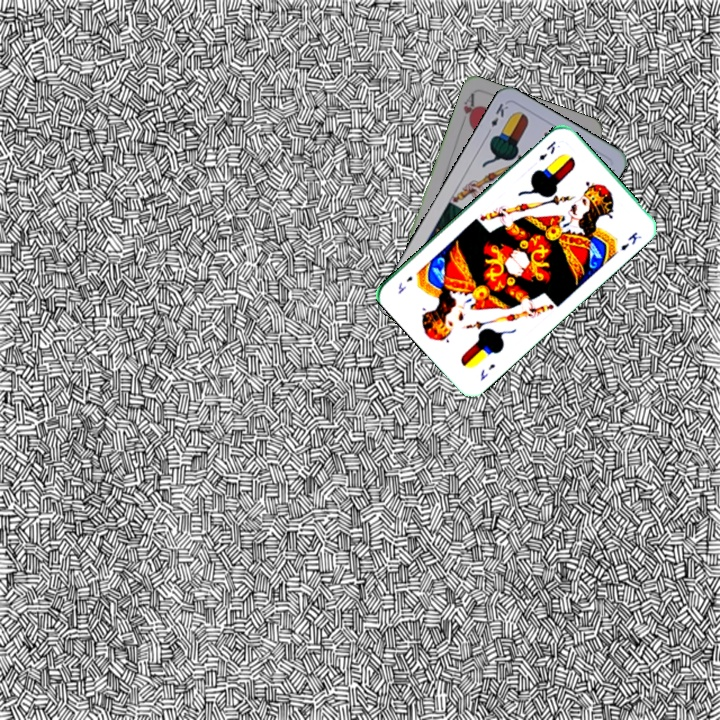EK: (483, 99, 511, 137), (534, 137, 558, 163), (476, 360, 498, 383)
HA: (457, 90, 479, 129)
